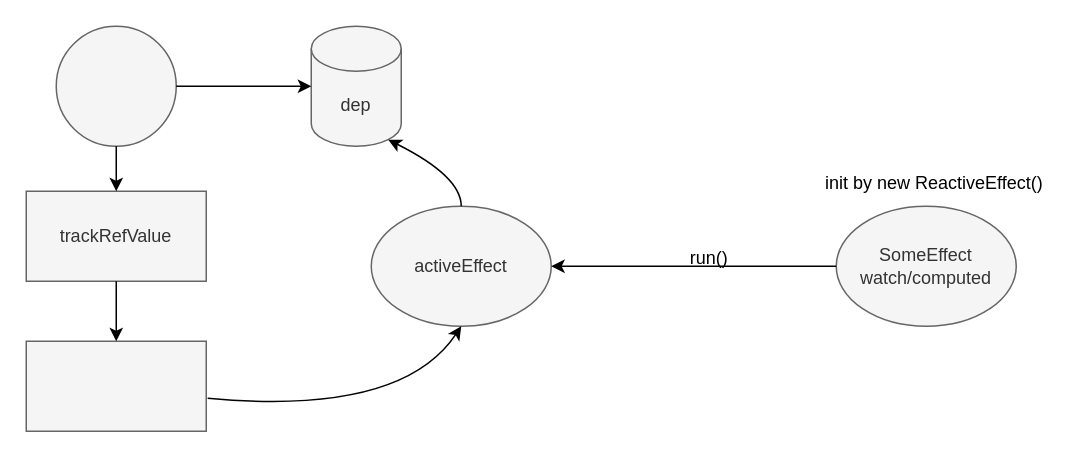
Image size: 1088x458. Some labels were removed from this diagram. Each missing label, with the box of its shape:
ref1: (55, 25, 176, 146)
trackEffect: (25, 340, 206, 431)
